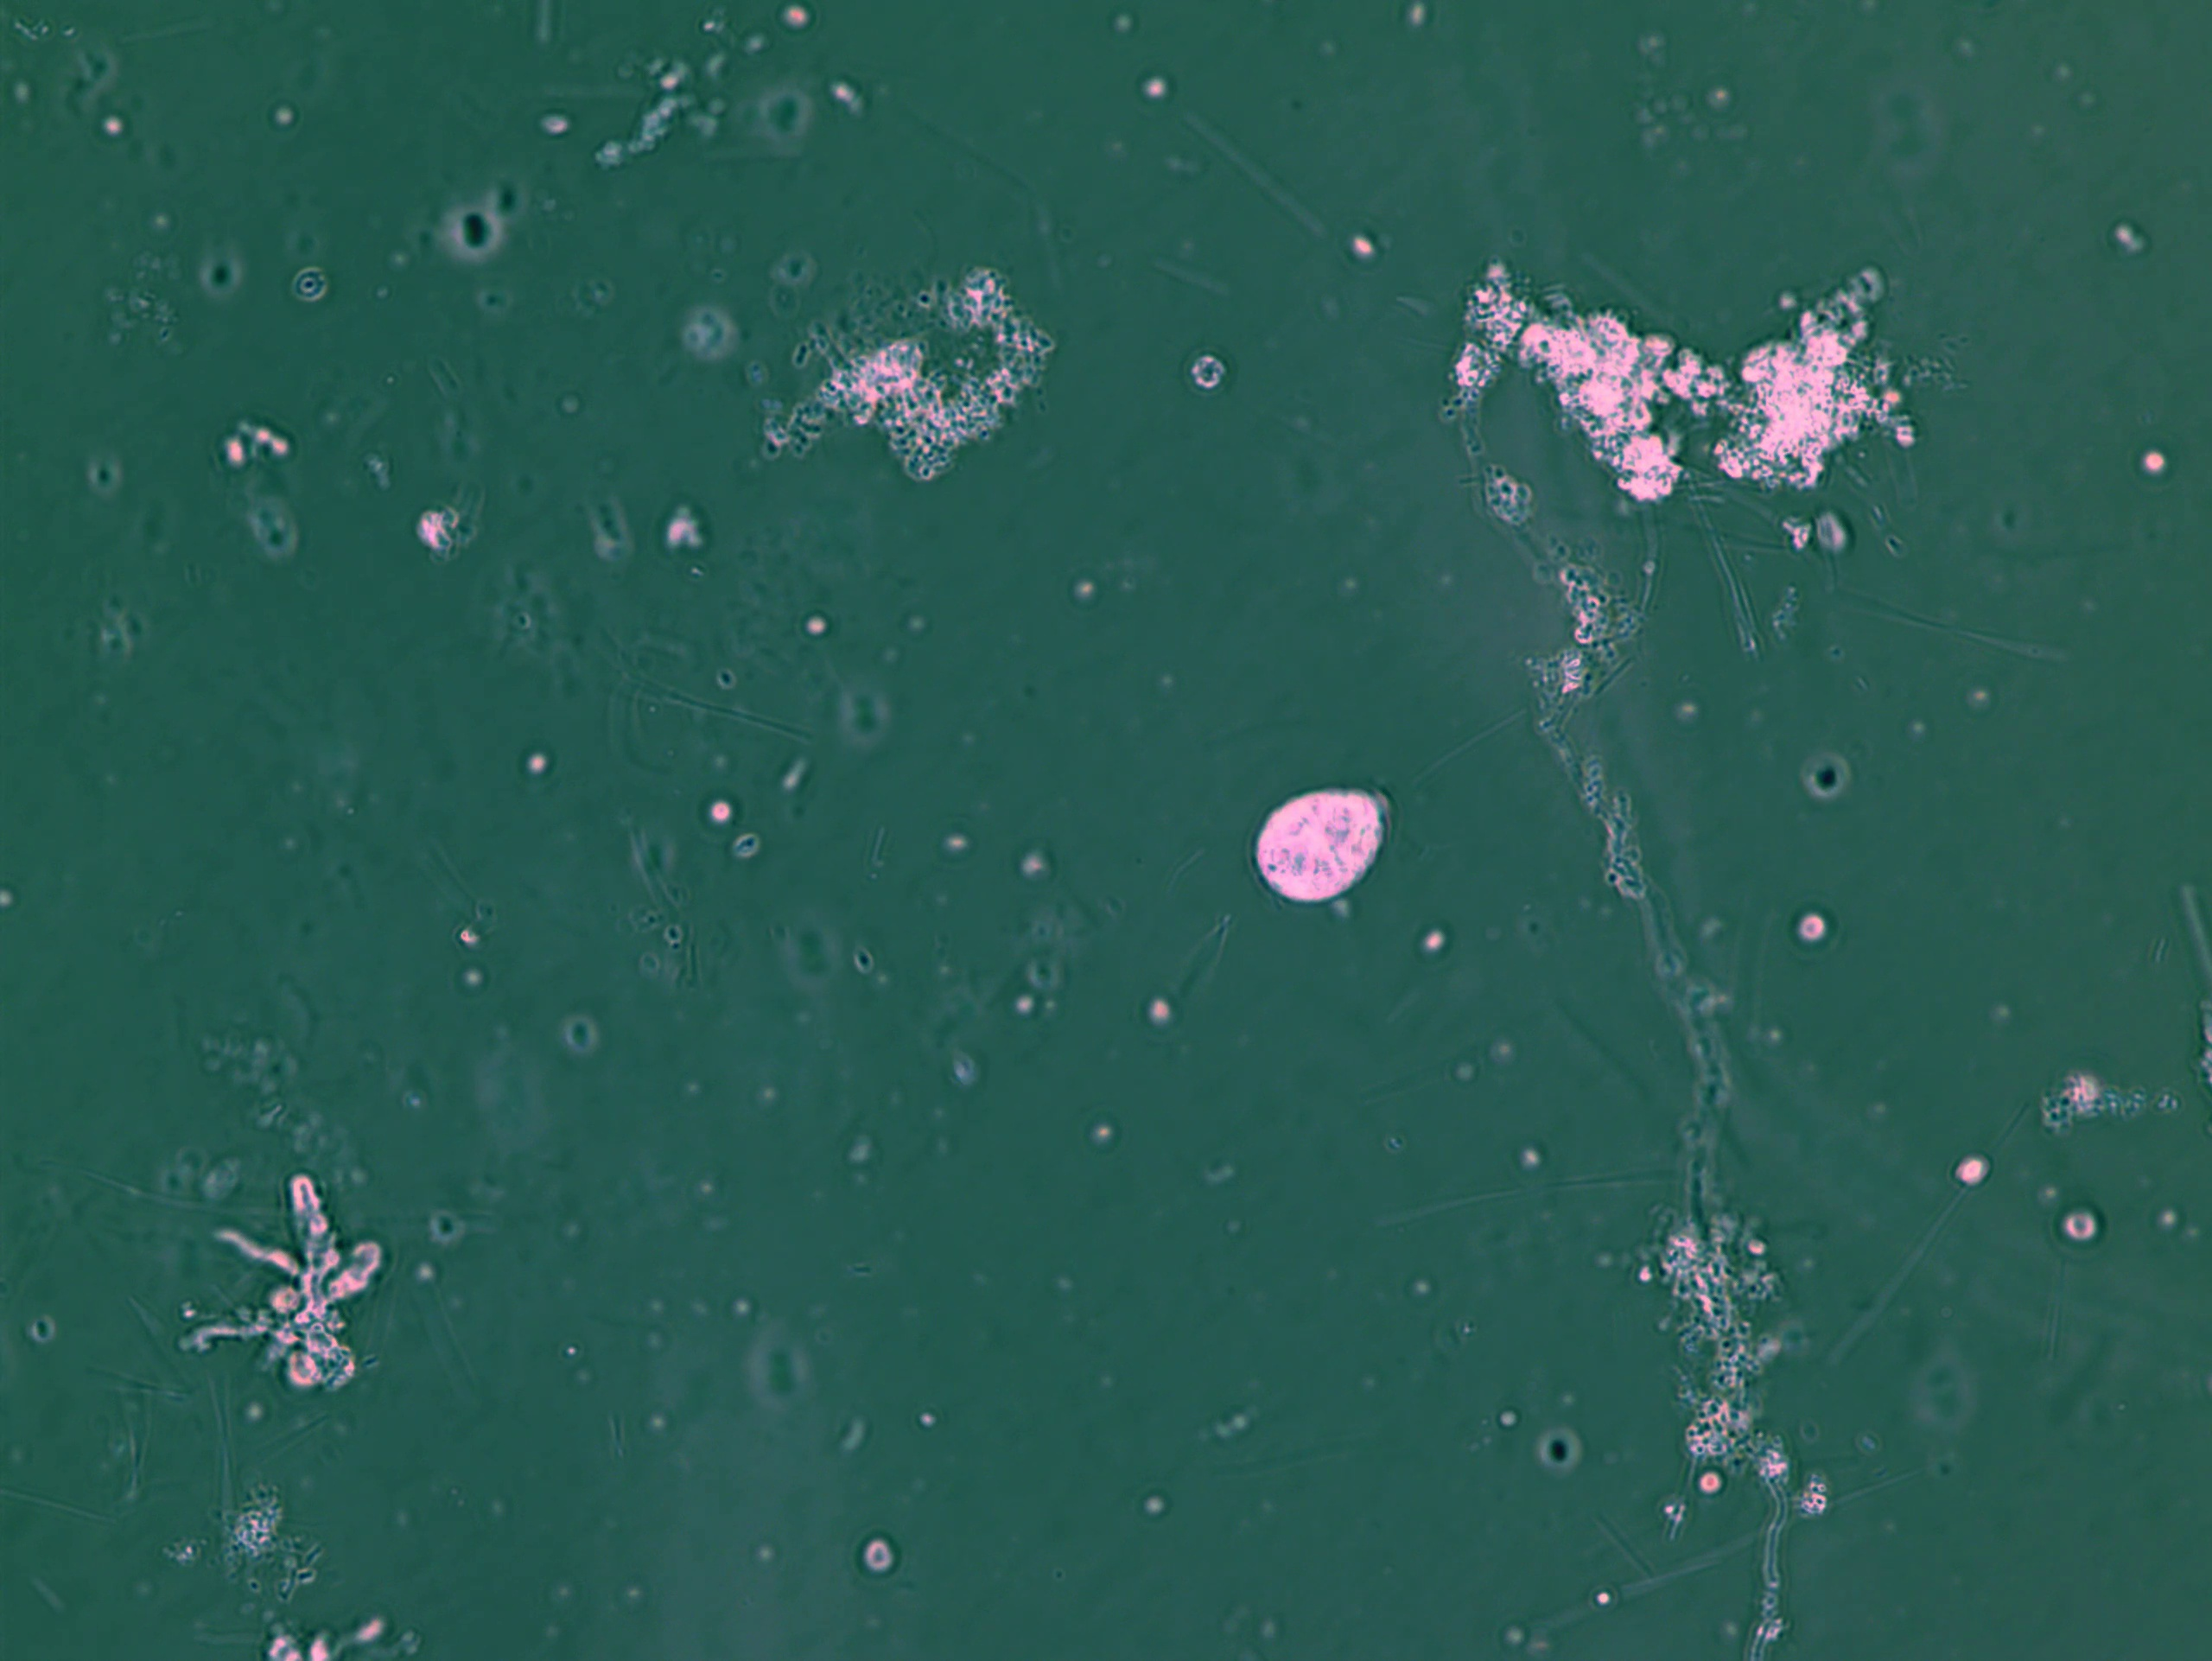depth:20: (1216, 768, 1423, 939)
